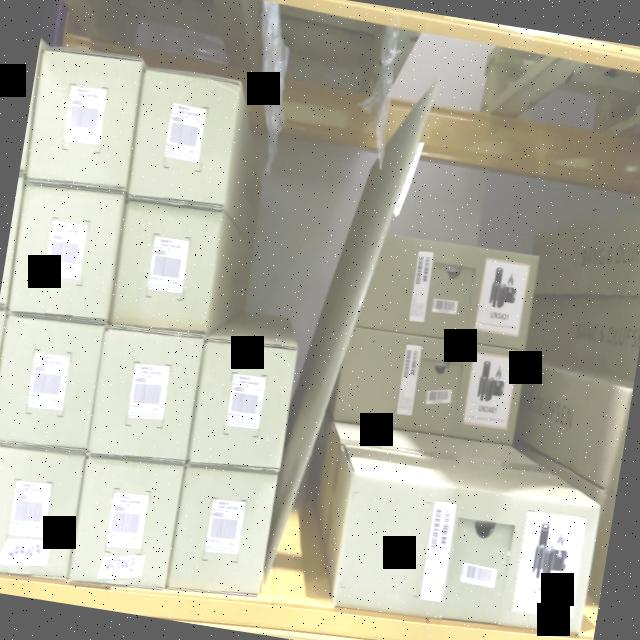box: (335, 476, 599, 634), (27, 47, 142, 192), (89, 326, 202, 465), (8, 187, 125, 321), (129, 70, 240, 208), (68, 458, 182, 590), (111, 199, 223, 333), (188, 337, 297, 474), (0, 313, 103, 454), (168, 470, 275, 596), (0, 445, 85, 580)
